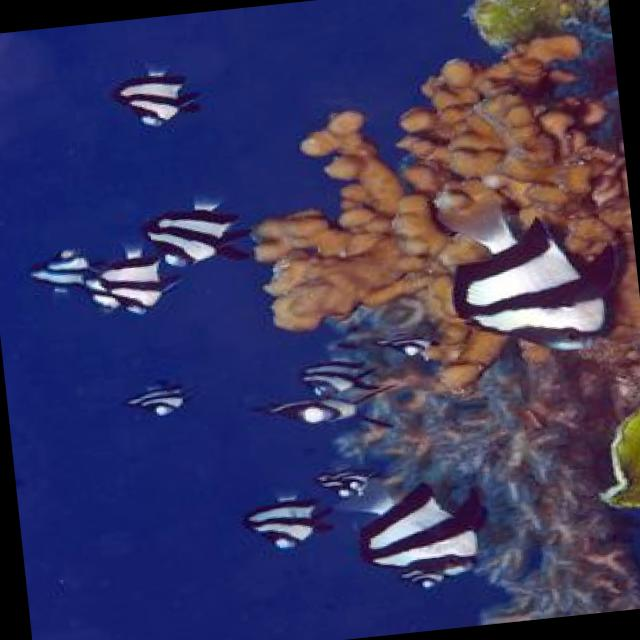ThreeStripedDamselfish: (435, 203, 629, 348)
